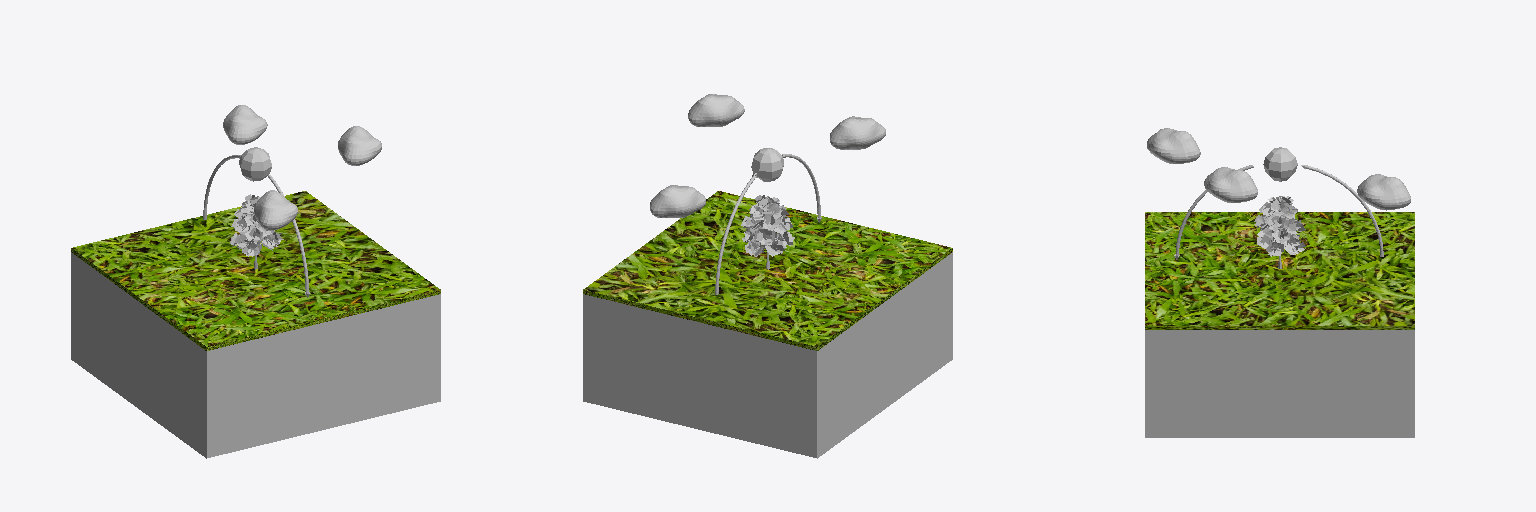
The picture shows the model from 3 angles: view 1: azimuth 30°, elevation 25°; view 2: azimuth 150°, elevation 25°; view 3: azimuth 270°, elevation 25°; orthographic projection.
Parts seen in each view (by area): view 1: Cube_Cube.001, Cube.001_Cube.002, cloud.002_Mesh_4.003, LowPolyTree, Cone; view 2: Cube_Cube.001, Cube.001_Cube.002, cloud.002_Mesh_4.003, LowPolyTree, Cone; view 3: Cube_Cube.001, Cube.001_Cube.002, cloud.002_Mesh_4.003, LowPolyTree, Cone.
Part boxes in pixels (x1,y1,x2,y2): Cube_Cube.001: (71,147,440,458); Cube.001_Cube.002: (71,191,440,350); cloud.002_Mesh_4.003: (223,105,381,230); LowPolyTree: (230,194,283,256); Cone: (203,155,309,297); Cube_Cube.001: (583,148,952,458); Cube.001_Cube.002: (583,191,952,350); cloud.002_Mesh_4.003: (650,94,885,217); LowPolyTree: (741,195,794,256); Cone: (715,154,821,294); Cube_Cube.001: (1145,147,1414,437); Cube.001_Cube.002: (1145,212,1414,329); cloud.002_Mesh_4.003: (1147,128,1410,210); LowPolyTree: (1254,196,1305,256); Cone: (1174,165,1383,259).
Size of the model in its own units: 0.9952 by 1.01 by 0.9952.
5 materials, 1 textured.